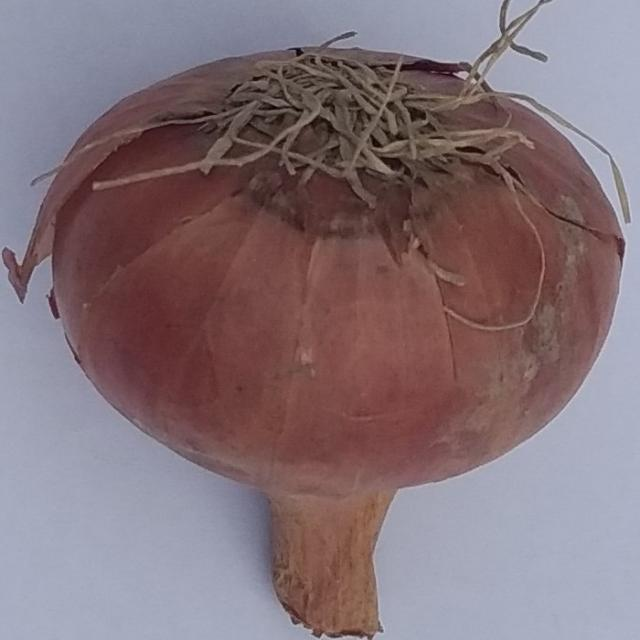onion: (8, 16, 629, 640)
